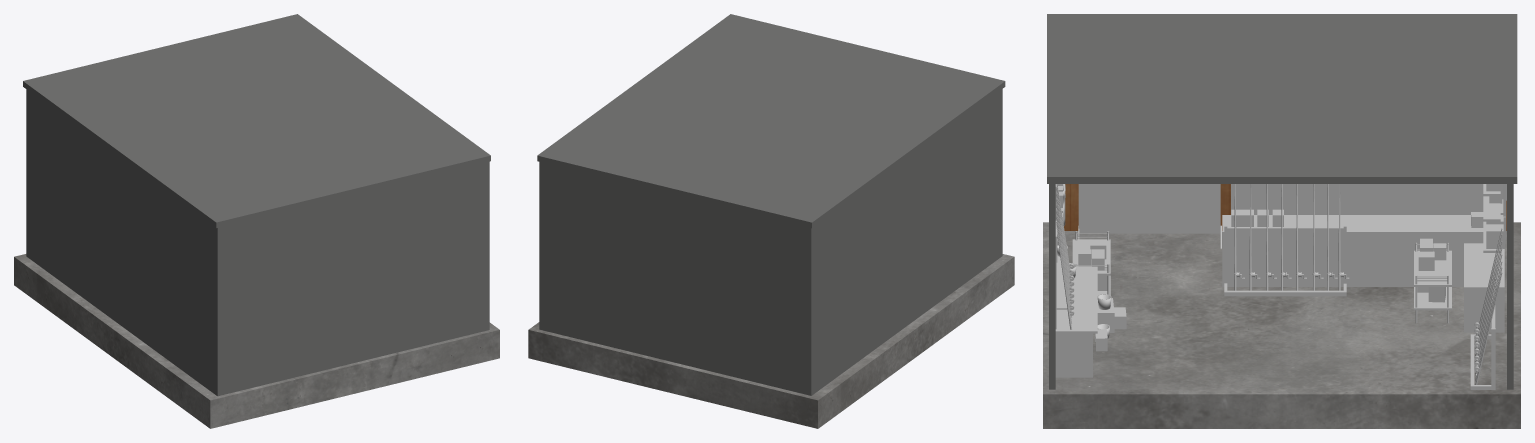
The model's file is fishing shop03.fbx.
3 views of the same model, side by side, from view 1: azimuth 30°, elevation 25°; view 2: azimuth 150°, elevation 25°; view 3: azimuth 270°, elevation 25° (orthographic). The views are drawn at different scales.
Visible parts, largest first — view 1: Cube.122, Cube.109, Cube.108, Cube.096, Cube.110; view 2: Cube.122, Cube.110, Cube.108, Cube.096, Cube.109; view 3: Cube.122, Cube.096, Cube.133, Cube.134, Cube.046, Cube.117, Cube.097, Cube.132, Cube.107, Cube.170, Cube.110, Cube.109 (+3 smaller).
Boxes of the visible parts, bbox=[...] form: Cube.122: bbox=[23, 14, 490, 227]; Cube.109: bbox=[214, 161, 489, 396]; Cube.108: bbox=[29, 91, 214, 393]; Cube.096: bbox=[14, 254, 499, 428]; Cube.110: bbox=[26, 89, 29, 258]; Cube.122: bbox=[537, 14, 1005, 228]; Cube.110: bbox=[539, 162, 814, 395]; Cube.108: bbox=[814, 91, 999, 393]; Cube.096: bbox=[528, 254, 1014, 428]; Cube.109: bbox=[999, 89, 1002, 257]; Cube.122: bbox=[1047, 14, 1517, 183]; Cube.096: bbox=[1043, 222, 1520, 428]; Cube.133: bbox=[1222, 215, 1483, 286]; Cube.134: bbox=[1231, 184, 1506, 239]; Cube.046: bbox=[1078, 184, 1221, 248]; Cube.117: bbox=[1464, 243, 1504, 332]; Cube.097: bbox=[1224, 225, 1346, 296]; Cube.132: bbox=[1055, 266, 1097, 333]; Cube.107: bbox=[1055, 333, 1092, 377]; Cube.170: bbox=[1414, 242, 1451, 323]; Cube.110: bbox=[1507, 184, 1513, 389]; Cube.109: bbox=[1049, 184, 1055, 389].
Size of the model in its own units: 286 by 192 by 336.
